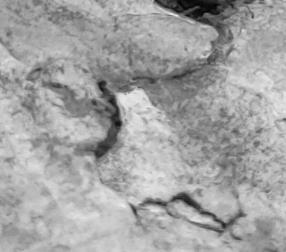crack: (1, 0, 286, 252)
